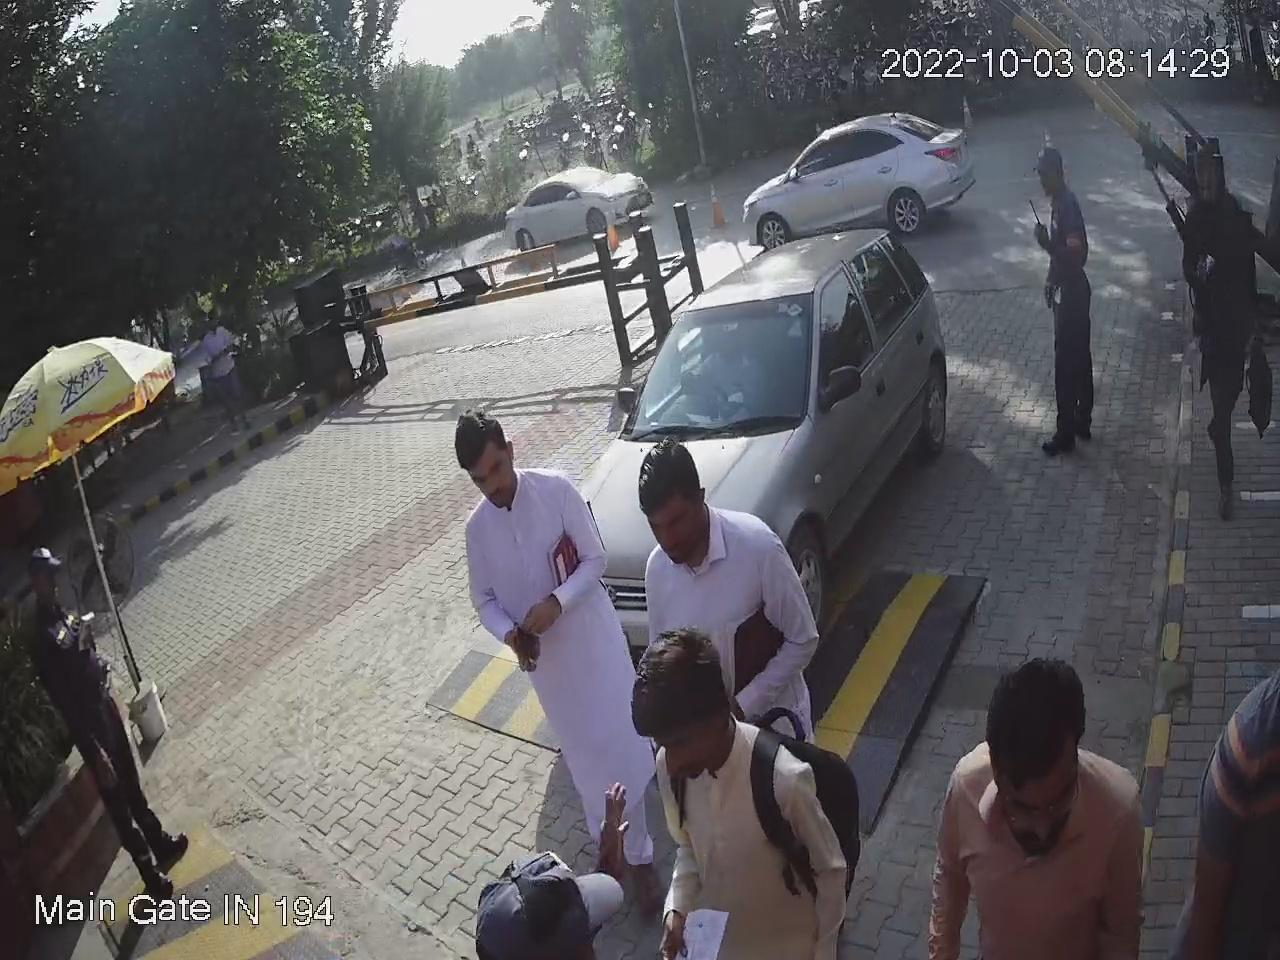windshield: (626, 275, 820, 435)
